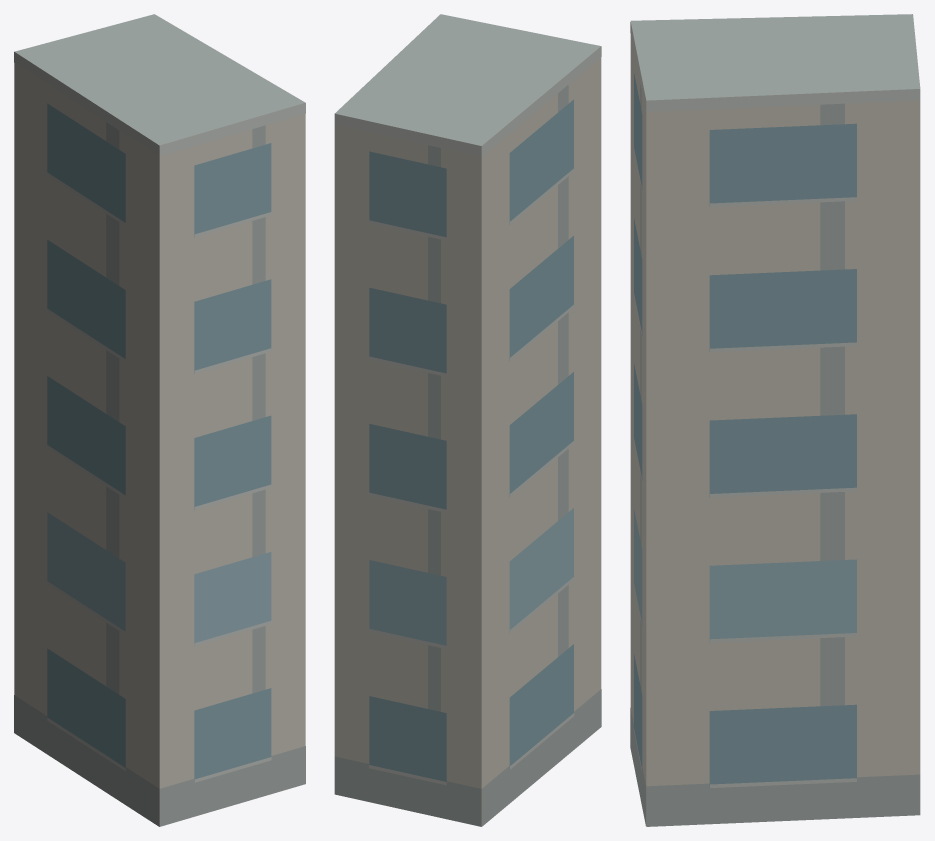
File: survey-upis-32632481.glb
3 views of the same model, side by side, from view 1: azimuth 30°, elevation 25°; view 2: azimuth 150°, elevation 25°; view 3: azimuth 270°, elevation 25° (orthographic). The views are drawn at different scales.
Visible parts, largest first — view 1: survey-upis-32632481.tmp; view 2: survey-upis-32632481.tmp; view 3: survey-upis-32632481.tmp.
Part boxes in pixels (bbox=[...]): survey-upis-32632481.tmp: bbox=[14, 14, 305, 826]; survey-upis-32632481.tmp: bbox=[334, 14, 601, 826]; survey-upis-32632481.tmp: bbox=[630, 14, 920, 826].
Size of the model in its own units: 3.91 by 15.25 by 5.53.
